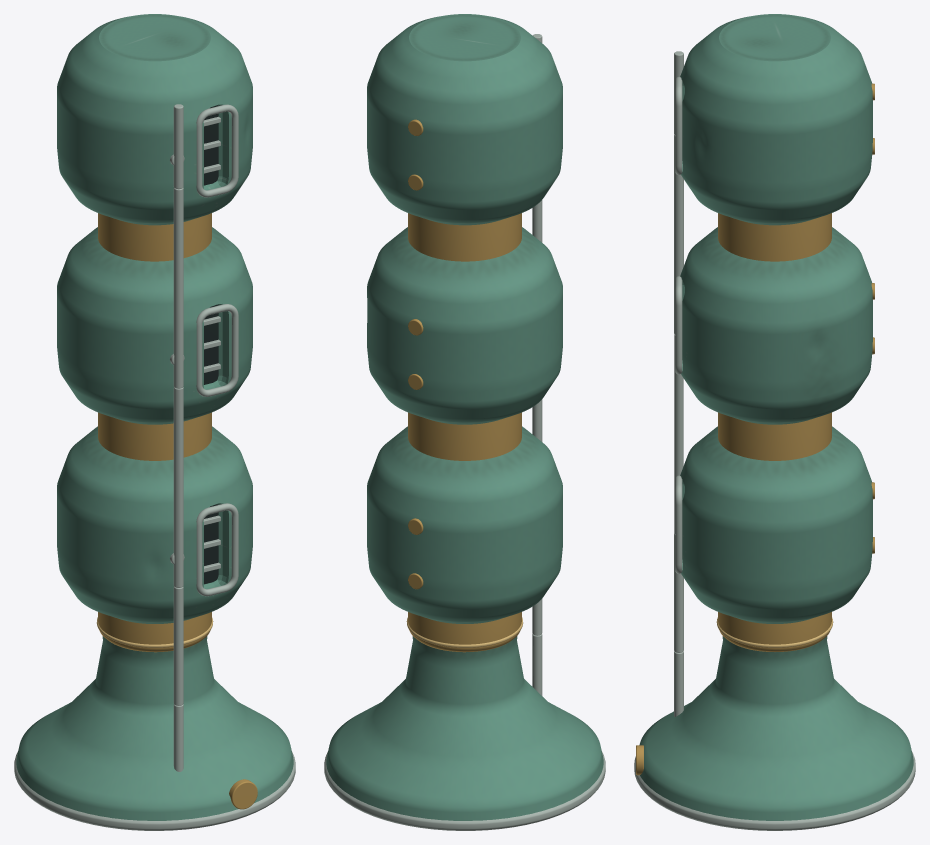
3 views of the same model, side by side, from view 1: azimuth 30°, elevation 25°; view 2: azimuth 150°, elevation 25°; view 3: azimuth 270°, elevation 25° (orthographic).
Visible parts, largest first — view 1: RI03 flared mounting pedestal, RI03 rounded vessel 2, RI03 rounded vessel 1, RI03 rounded vessel 0, RI03 solid brass interstage neck 1, RI03 solid brass interstage neck 2, RI03 ground mounting rim, RI03 solid brass interstage neck 0, RI03 continuous pale service spine.002, RI03 continuous pale service spine.003, RI03 continuous rounded pocket return, RI03 continuous rounded pocket return.002 (+8 smaller); view 2: RI03 rounded vessel 2, RI03 flared mounting pedestal, RI03 rounded vessel 1, RI03 rounded vessel 0, RI03 solid brass interstage neck 1, RI03 solid brass interstage neck 2, RI03 ground mounting rim, RI03 solid brass interstage neck 0, RI03 continuous pale service spine; view 3: RI03 rounded vessel 2, RI03 flared mounting pedestal, RI03 rounded vessel 1, RI03 rounded vessel 0, RI03 solid brass interstage neck 1, RI03 solid brass interstage neck 2, RI03 ground mounting rim, RI03 solid brass interstage neck 0, RI03 continuous pale service spine.003, RI03 continuous pale service spine.002, RI03 continuous pale service spine.001, RI03 continuous rounded pocket return.002 (+3 smaller).
Boxes of the visible parts, x1,y1,x2,y2 form: RI03 flared mounting pedestal: (16,636,293,820); RI03 rounded vessel 2: (57,14,252,225); RI03 rounded vessel 1: (57,227,252,424); RI03 rounded vessel 0: (57,426,252,623); RI03 solid brass interstage neck 1: (98,412,211,460); RI03 solid brass interstage neck 2: (98,213,211,261); RI03 ground mounting rim: (14,752,295,830); RI03 solid brass interstage neck 0: (98,612,211,652); RI03 continuous pale service spine.002: (173,387,183,587); RI03 continuous pale service spine.003: (173,187,183,388); RI03 continuous rounded pocket return: (196,503,238,596); RI03 continuous rounded pocket return.002: (196,104,238,197); RI03 rounded vessel 2: (367,14,562,225); RI03 flared mounting pedestal: (326,636,603,820); RI03 rounded vessel 1: (367,227,562,424); RI03 rounded vessel 0: (367,426,562,623); RI03 solid brass interstage neck 1: (408,412,521,460); RI03 solid brass interstage neck 2: (408,213,521,261); RI03 ground mounting rim: (324,752,605,830); RI03 solid brass interstage neck 0: (408,612,521,652); RI03 continuous pale service spine: (532,634,542,695); RI03 rounded vessel 2: (680,14,872,225); RI03 flared mounting pedestal: (639,636,913,820); RI03 rounded vessel 1: (680,227,872,424); RI03 rounded vessel 0: (680,426,872,623); RI03 solid brass interstage neck 1: (718,412,831,460); RI03 solid brass interstage neck 2: (718,213,831,261); RI03 ground mounting rim: (634,752,915,830); RI03 solid brass interstage neck 0: (718,612,831,651); RI03 continuous pale service spine.003: (674,135,683,334); RI03 continuous pale service spine.002: (674,334,683,533); RI03 continuous pale service spine.001: (674,533,683,652); RI03 continuous rounded pocket return.002: (675,76,682,175).
Bounding box in the file's own units: 1.41 × 4.1 × 1.41.
Materials: 7 (2 with a texture image).
